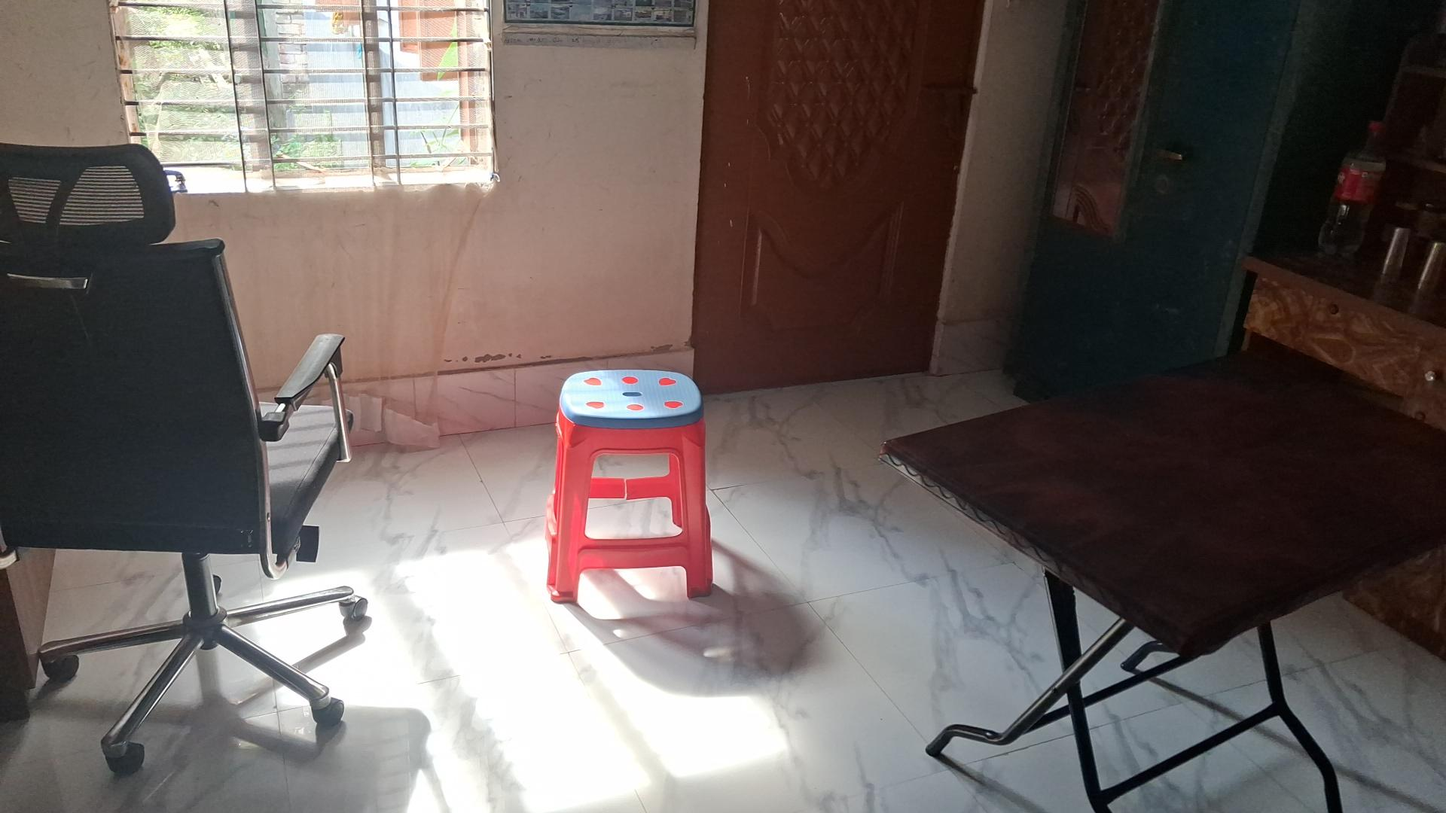Bottle: (1316, 120, 1387, 259)
Chair: (0, 141, 368, 779)
Door: (690, 3, 977, 416)
Stool: (545, 368, 713, 614)
Table: (881, 352, 1446, 813)
Window: (110, 0, 497, 198)
